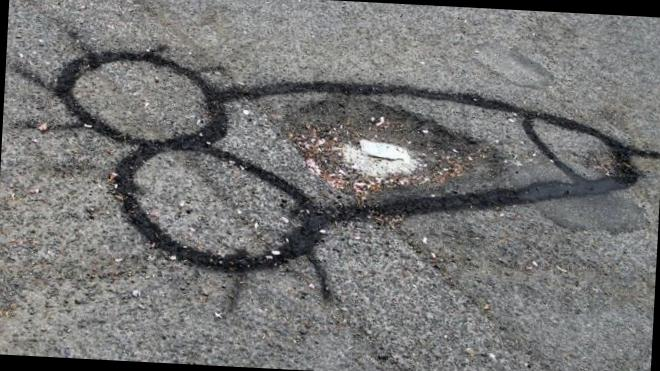pothole: (250, 73, 513, 218)
